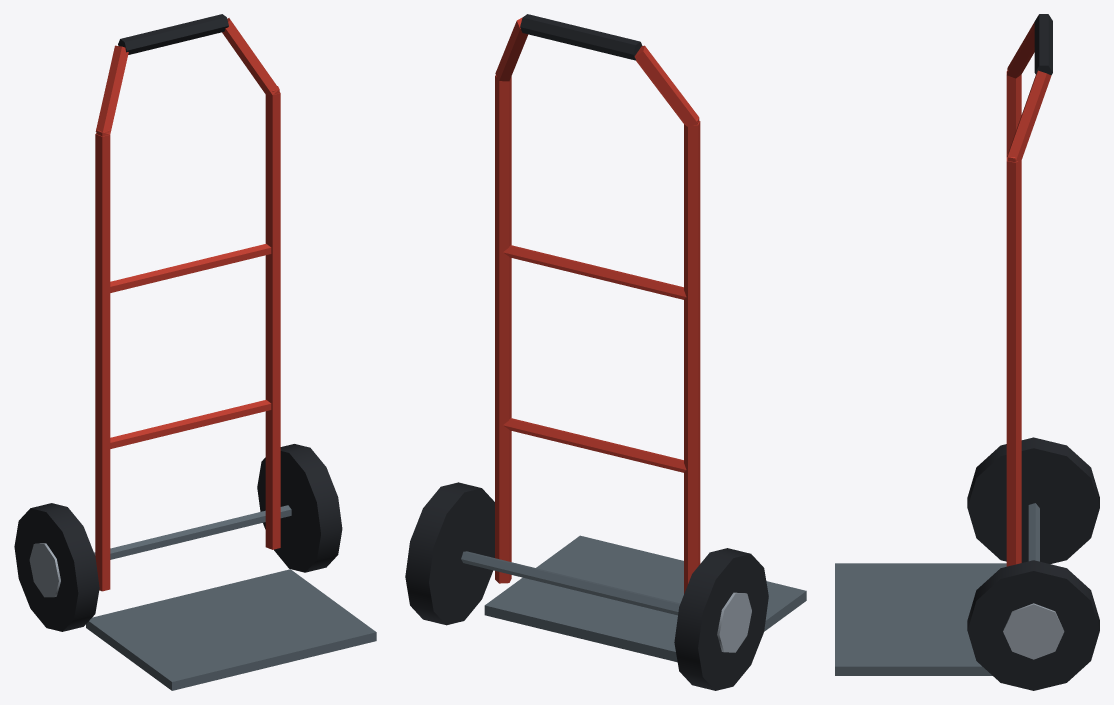
File: hand_truck.glb
3 views of the same model, side by side, from view 1: azimuth 30°, elevation 25°; view 2: azimuth 150°, elevation 25°; view 3: azimuth 270°, elevation 25° (orthographic). The views are drawn at different scales.
Visible parts, largest first — view 1: hand_truck; view 2: hand_truck; view 3: hand_truck.
Part boxes in pixels (x1,y1,x2,y2): hand_truck: (14, 14, 376, 690); hand_truck: (405, 14, 806, 690); hand_truck: (835, 14, 1099, 690).
Bounding box in the file's own units: 0.63 × 1.27 × 0.52.
